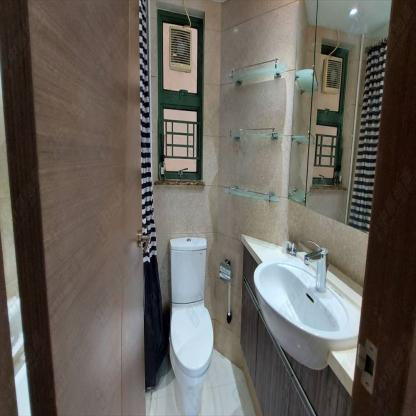Exhaust Fan: (168, 26, 192, 72)
Faucet: (301, 231, 335, 297)
Toilet: (168, 234, 214, 415)
Toilet Sink: (254, 258, 348, 371)
